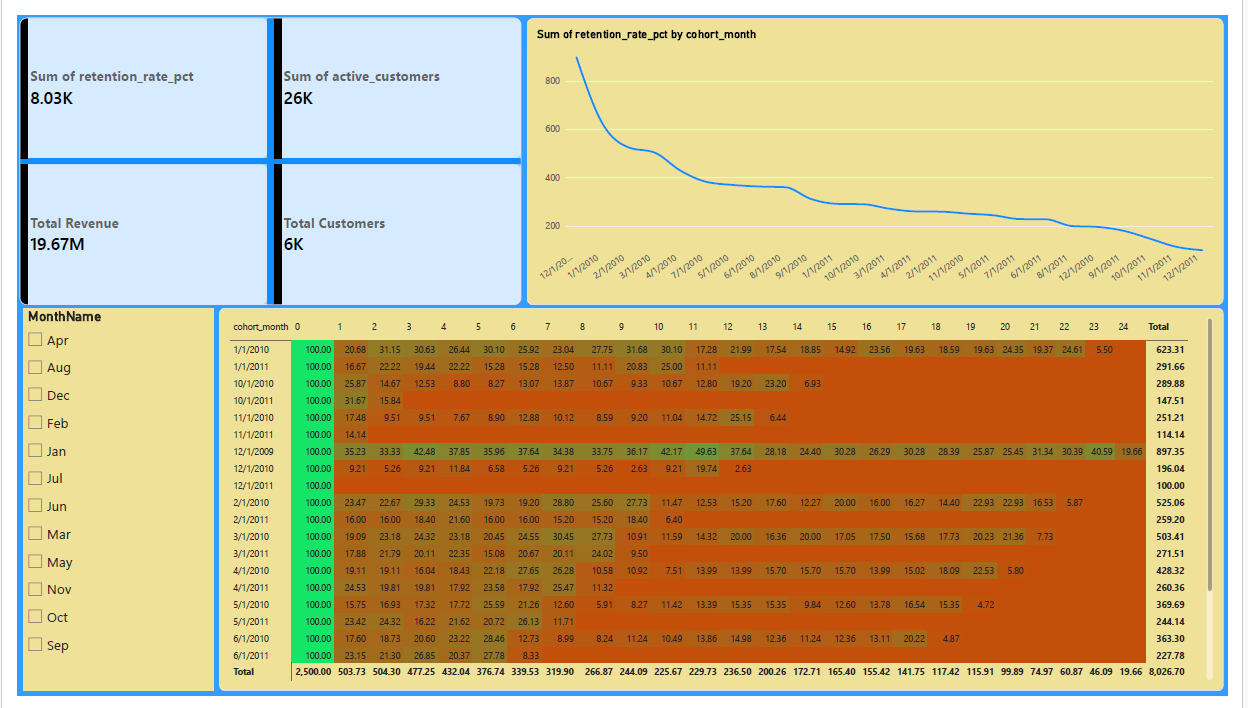

What the dashboard file says about the page in this screenshot:
{"tool":"powerbi","page":{"name":"Cohort & Retention Analysis","canvas":[1920,1080],"ordinal":3},"visuals":[{"type":"lineChart","fields":{"Category":["04_cohort_retention_rate_CORRECTED.cohort_month"],"Y":["Sum(04_cohort_retention_rate_CORRECTED.retention_rate_pct)"]},"box":[809.3,4.7,1104.7,455.8],"z":0},{"type":"pivotTable","fields":{"Rows":["04_cohort_retention_rate_CORRECTED.cohort_month"],"Columns":["1 . 04_cohort_retention_rate_CORRECTED.month_number"],"Values":["Sum(04_cohort_retention_rate_CORRECTED.retention_rate_pct)"]},"box":[320.9,465.1,1593,607],"z":1000},{"type":"slicer","fields":{"Values":["DateTable.MonthName"]},"box":[10,466,302,606],"z":5000},{"type":"cardVisual","fields":{"Data":["Sum(1 . 04_cohort_retention_rate_CORRECTED.retention_rate_pct)","Sum(1 . 04_cohort_retention_rate_CORRECTED.active_customers)","1. powerbi_fact_sales.Total Revenue","1. powerbi_fact_sales.Total Customers"]},"box":[4,4,796,456],"z":7000}]}

Visuals, with their boxes in screenshot pixels (x1, y1, x2, y2), scaled from the page's 1920x1080 canvas onto the 1248x708 screenshot:
lineChart - 04_cohort_retention_rate_CORRECTED.cohort_month x Sum(04_cohort_retention_rate_CORRECTED.retention_rate_pct): (526, 3, 1244, 302)
pivotTable - 04_cohort_retention_rate_CORRECTED.cohort_month x 1 . 04_cohort_retention_rate_CORRECTED.month_number: (209, 305, 1244, 703)
slicer - DateTable.MonthName: (6, 305, 203, 703)
cardVisual - Sum(1 . 04_cohort_retention_rate_CORRECTED.retention_rate_pct) x Sum(1 . 04_cohort_retention_rate_CORRECTED.active_customers): (3, 3, 520, 302)
